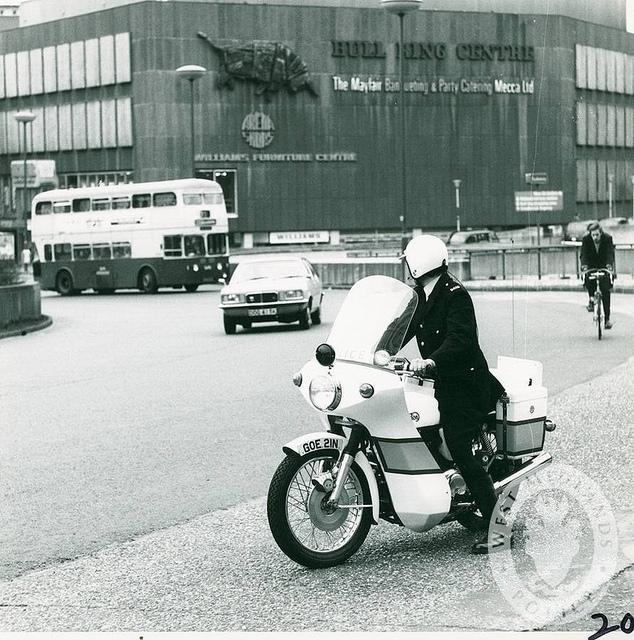bicycle: (583, 264, 614, 339)
bus: (21, 180, 236, 295)
car: (219, 254, 324, 331), (447, 231, 500, 246), (562, 223, 590, 242), (602, 217, 630, 229)
motorcycle: (264, 274, 558, 564)
